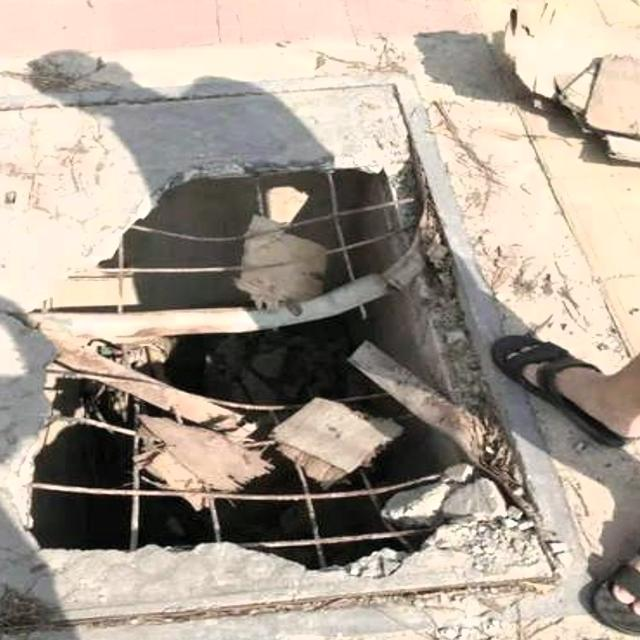broke: (0, 69, 581, 640)
